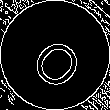O_NE: (22, 22, 88, 88)
